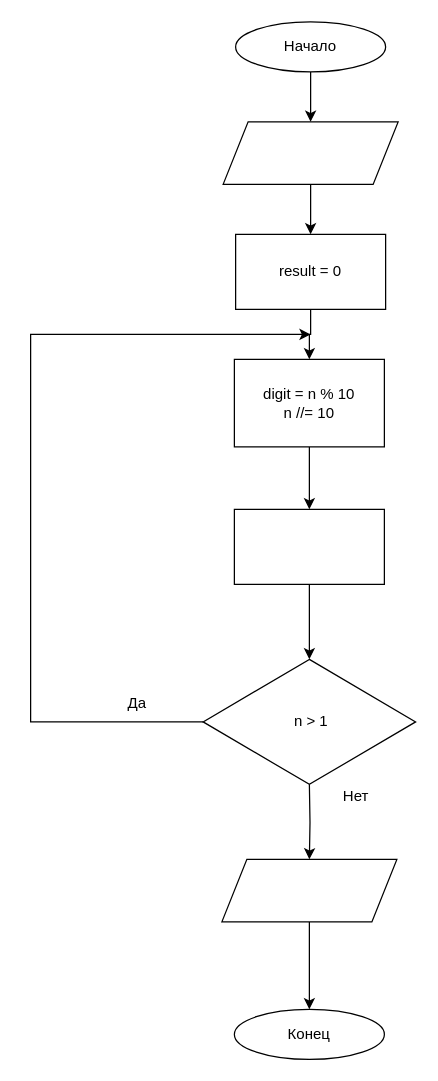
This 438x1081 diagram has some shape labels left out. The box of each missing label's shape, as (x1, y1, x2, y2) in pixels:
result = result * 10 +digit: (233, 508, 384, 584)
ввод: n: (222, 121, 398, 184)
вывод: result: (221, 858, 397, 922)
